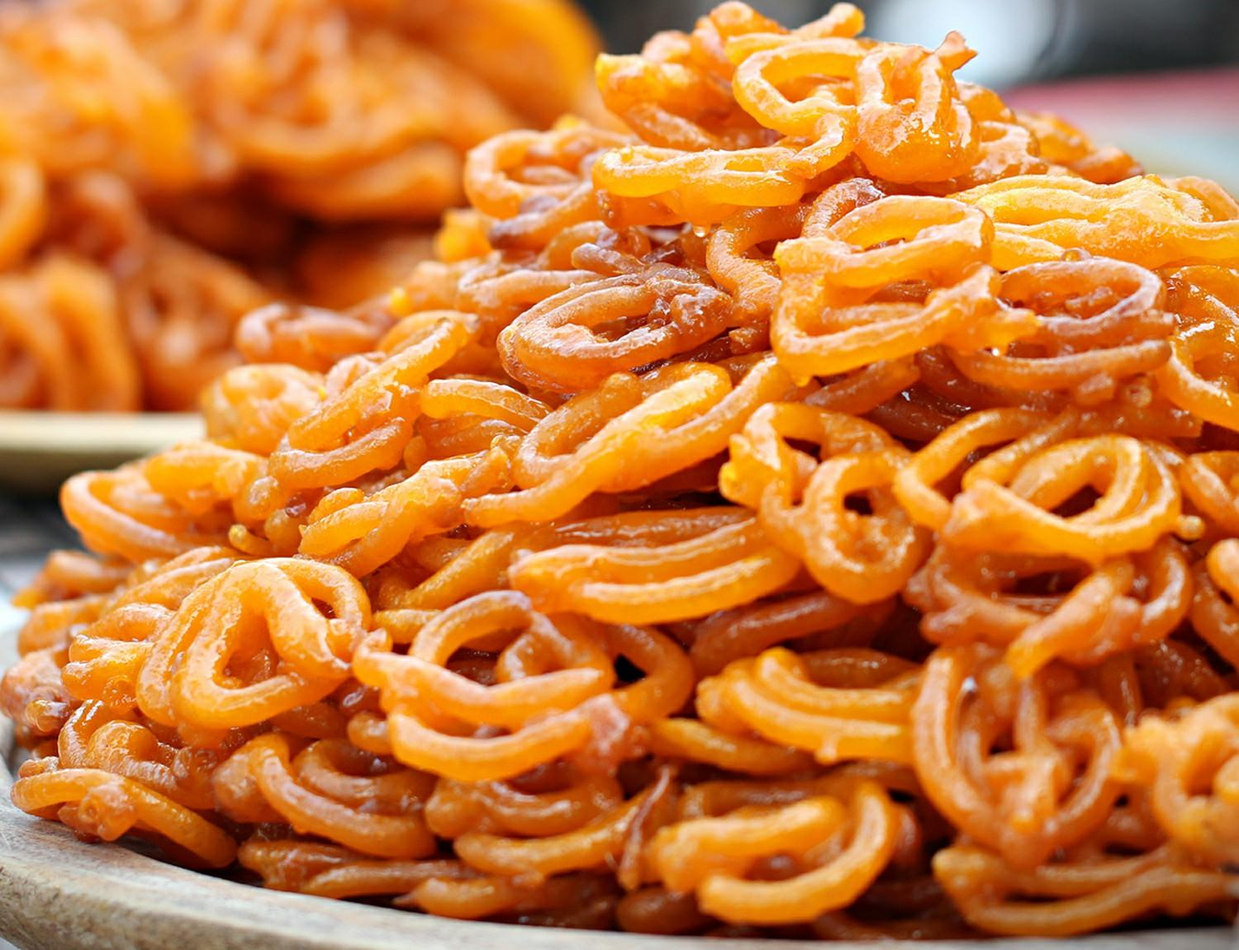Jalebi: (0, 0, 1239, 941)
